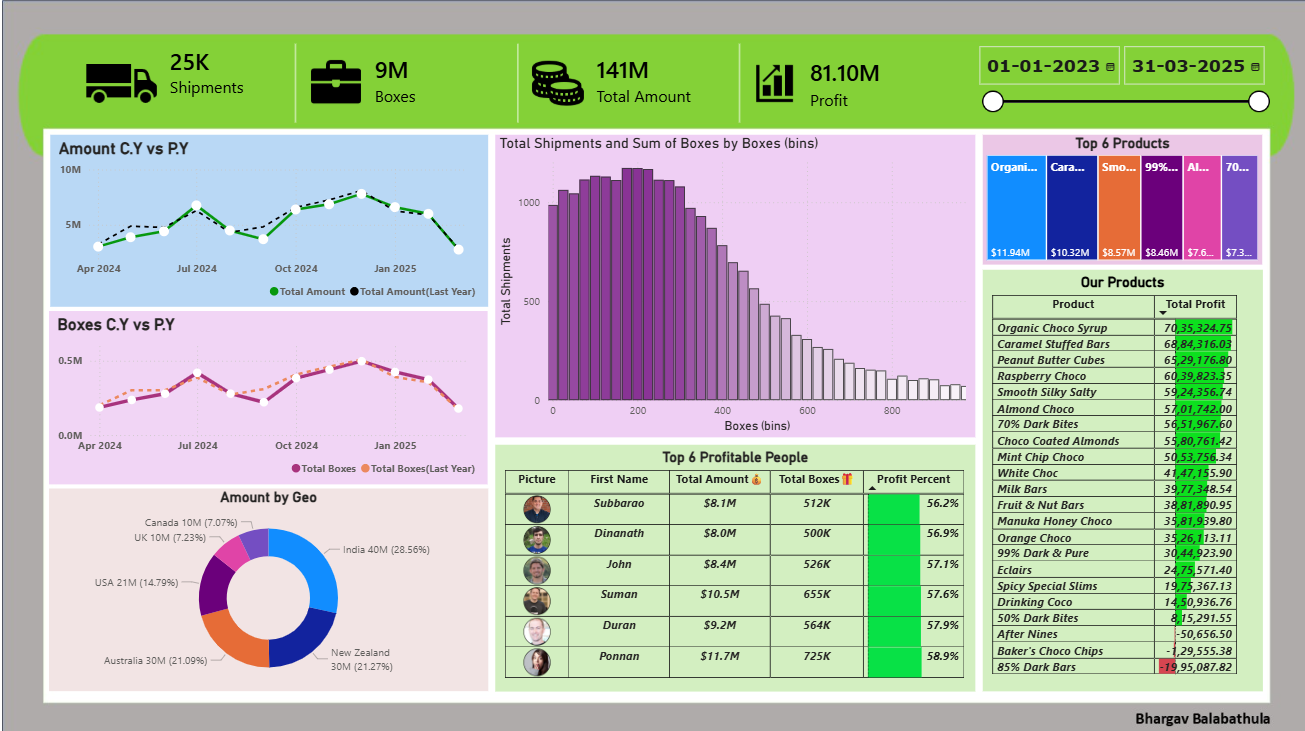

Layout of this report page (visuals, bound fields, positions):
{"tool":"powerbi","page":{"name":"Page 1","canvas":[1920,1080],"ordinal":0},"visuals":[{"type":"lineChart","title":"Amount C.Y vs P.Y","fields":{"Category":["calendar.Start of Month"],"Y":["shipments.Total Amount","shipments.Total Amount(Last Year)"]},"box":[248.8,262.5,515,202.5],"z":0},{"type":"lineChart","title":"Boxes C.Y vs P.Y","fields":{"Category":["calendar.Start of Month"],"Y":["shipments.Total Boxes","shipments.Total Boxes(Last Year)"]},"box":[247.5,470,516.2,203.8],"z":1000},{"type":"donutChart","title":"Amount by Geo","fields":{"Y":["shipments.Total Amount"],"Category":["locations.Geo"]},"box":[247,679.2,516.6,238.8],"z":2000},{"type":"clusteredColumnChart","fields":{"Y":["shipments.Total Shipments"],"Category":["shipments.Boxes (bins)"]},"box":[772.5,262.5,565,356.2],"z":3000},{"type":"tableEx","title":"Top 6 Profitable People","fields":{"Values":["people.Picture","people.First Name","shipments.Total Amount","shipments.Total Boxes","shipments.Profit Percent"]},"box":[772.5,627.5,565,290],"z":4000},{"type":"treemap","title":"Top 6 Products","fields":{"Group":["products.Product"],"Values":["shipments.Total Amount"]},"box":[1345.5,262.7,329.1,152.7],"z":5000},{"type":"tableEx","title":"Our Products","fields":{"Values":["products.Product","shipments.Total Profit"]},"box":[1346.1,422,329.3,496.1],"z":6000},{"type":"cardVisual","fields":{"Data":["shipments.Total Shipments","Sum(shipments.Boxes)","shipments.Total Amount","shipments.Total Profit"]},"box":[263.5,144.1,1070.3,117.3],"z":7000},{"type":"slicer","fields":{"Values":["calendar.cal_date"]},"box":[1333.8,153.8,357.5,97.5],"z":8000}]}

Visuals, with their boxes in screenshot pixels (x1, y1, x2, y2), scaled from the page's 1920x1080 canvas onto the 1305x731 screenshot:
"Amount C.Y vs P.Y" lineChart: <region>169, 178, 519, 315</region>
"Boxes C.Y vs P.Y" lineChart: <region>168, 318, 519, 456</region>
"Amount by Geo" donutChart: <region>168, 460, 519, 621</region>
clusteredColumnChart - shipments.Total Shipments x shipments.Boxes (bins): <region>525, 178, 909, 419</region>
"Top 6 Profitable People" tableEx: <region>525, 425, 909, 621</region>
"Top 6 Products" treemap: <region>915, 178, 1138, 281</region>
"Our Products" tableEx: <region>915, 286, 1139, 621</region>
cardVisual - shipments.Total Shipments x Sum(shipments.Boxes): <region>179, 98, 907, 177</region>
slicer - calendar.cal_date: <region>907, 104, 1150, 170</region>
